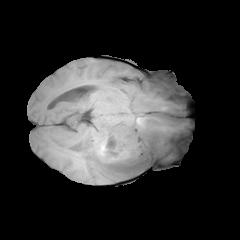glioma: (78, 109, 163, 180)
